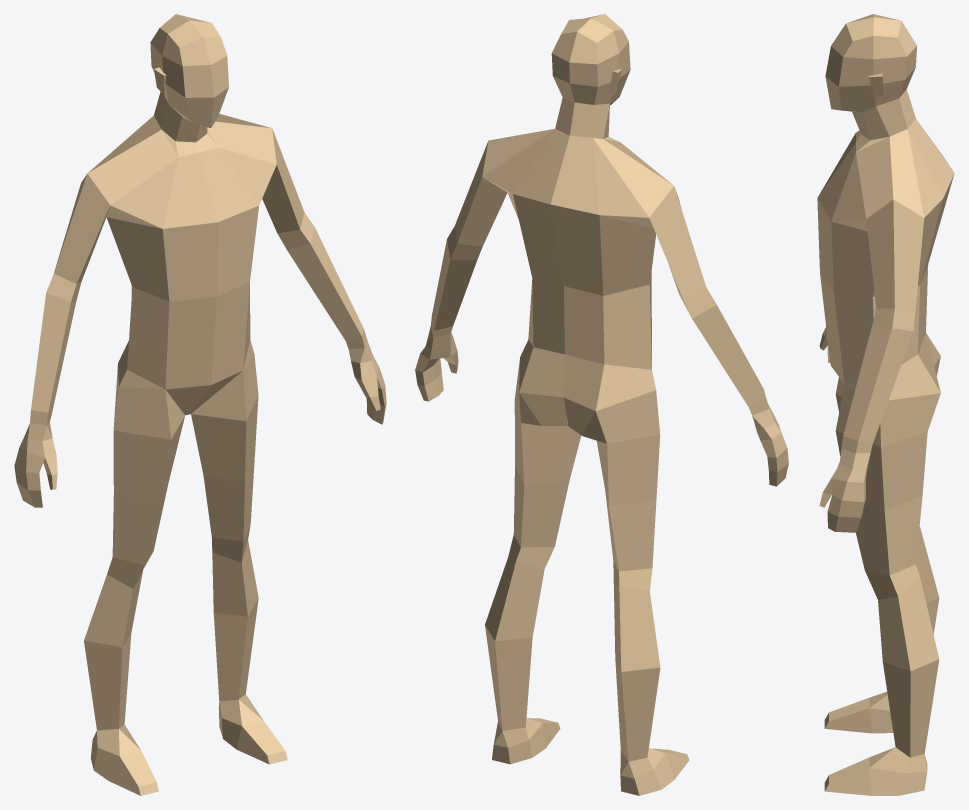
File: low-poly_male_body.glb
The picture shows the model from 3 angles, left to right: view 1: azimuth 30°, elevation 25°; view 2: azimuth 150°, elevation 25°; view 3: azimuth 270°, elevation 25°; orthographic projection.
Visible parts, largest first — view 1: Cylinder; view 2: Cylinder; view 3: Cylinder.
Boxes of the visible parts, x1=… form: Cylinder: x1=14, y1=14, x2=386, y2=795; Cylinder: x1=415, y1=14, x2=788, y2=795; Cylinder: x1=817, y1=14, x2=954, y2=795.
Bounding box in the file's own units: 0.8526 × 1.67 × 0.2819.
